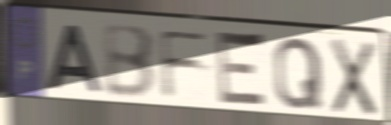A: (44, 22, 105, 95)
B: (100, 23, 157, 102)
E: (215, 27, 269, 113)
F: (156, 28, 213, 101)
Q: (272, 35, 326, 112)
X: (328, 35, 378, 119)
